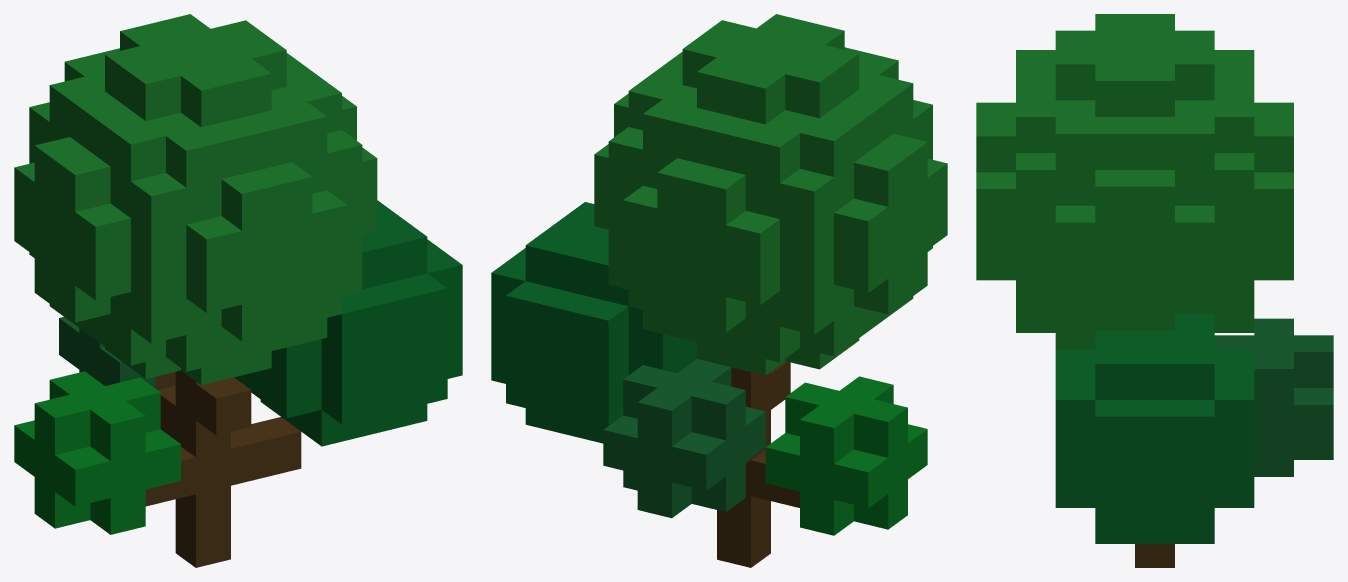
Rendered from BUSH.obj.
3 views of the same model, side by side, from view 1: azimuth 30°, elevation 25°; view 2: azimuth 150°, elevation 25°; view 3: azimuth 270°, elevation 25° (orthographic). The views are drawn at different scales.
Bounding box in the file's own units: 1.1 × 1.4 × 0.9.
Materials: 1 (1 with a texture image).
